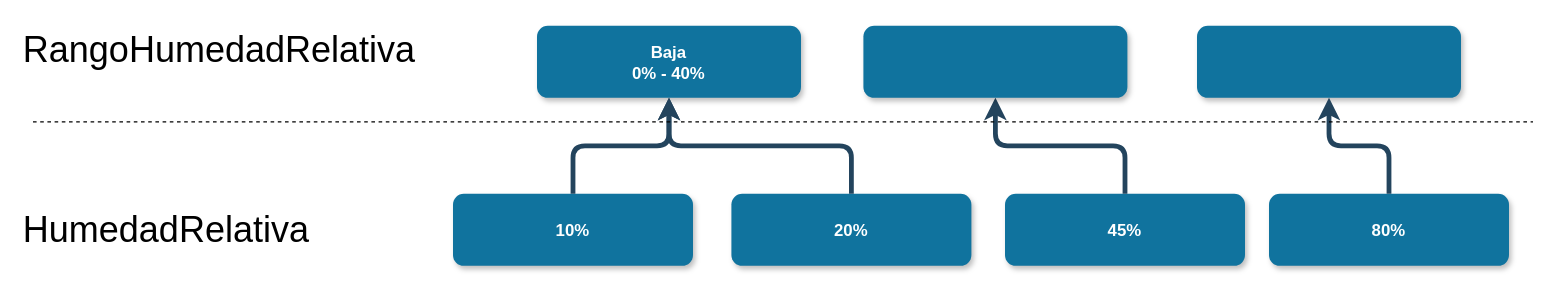
Image size: 1555x294. Some labels were removed from this diagram. Each missing label, with the centre of its shape:
"Alta 70% - 100%" goes at point (1330, 63).
"Media 40% - 70%" goes at point (996, 63).
